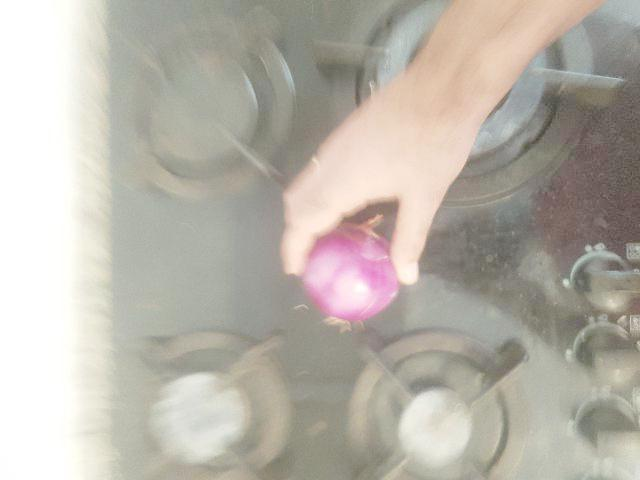onion: (161, 300, 247, 386)
